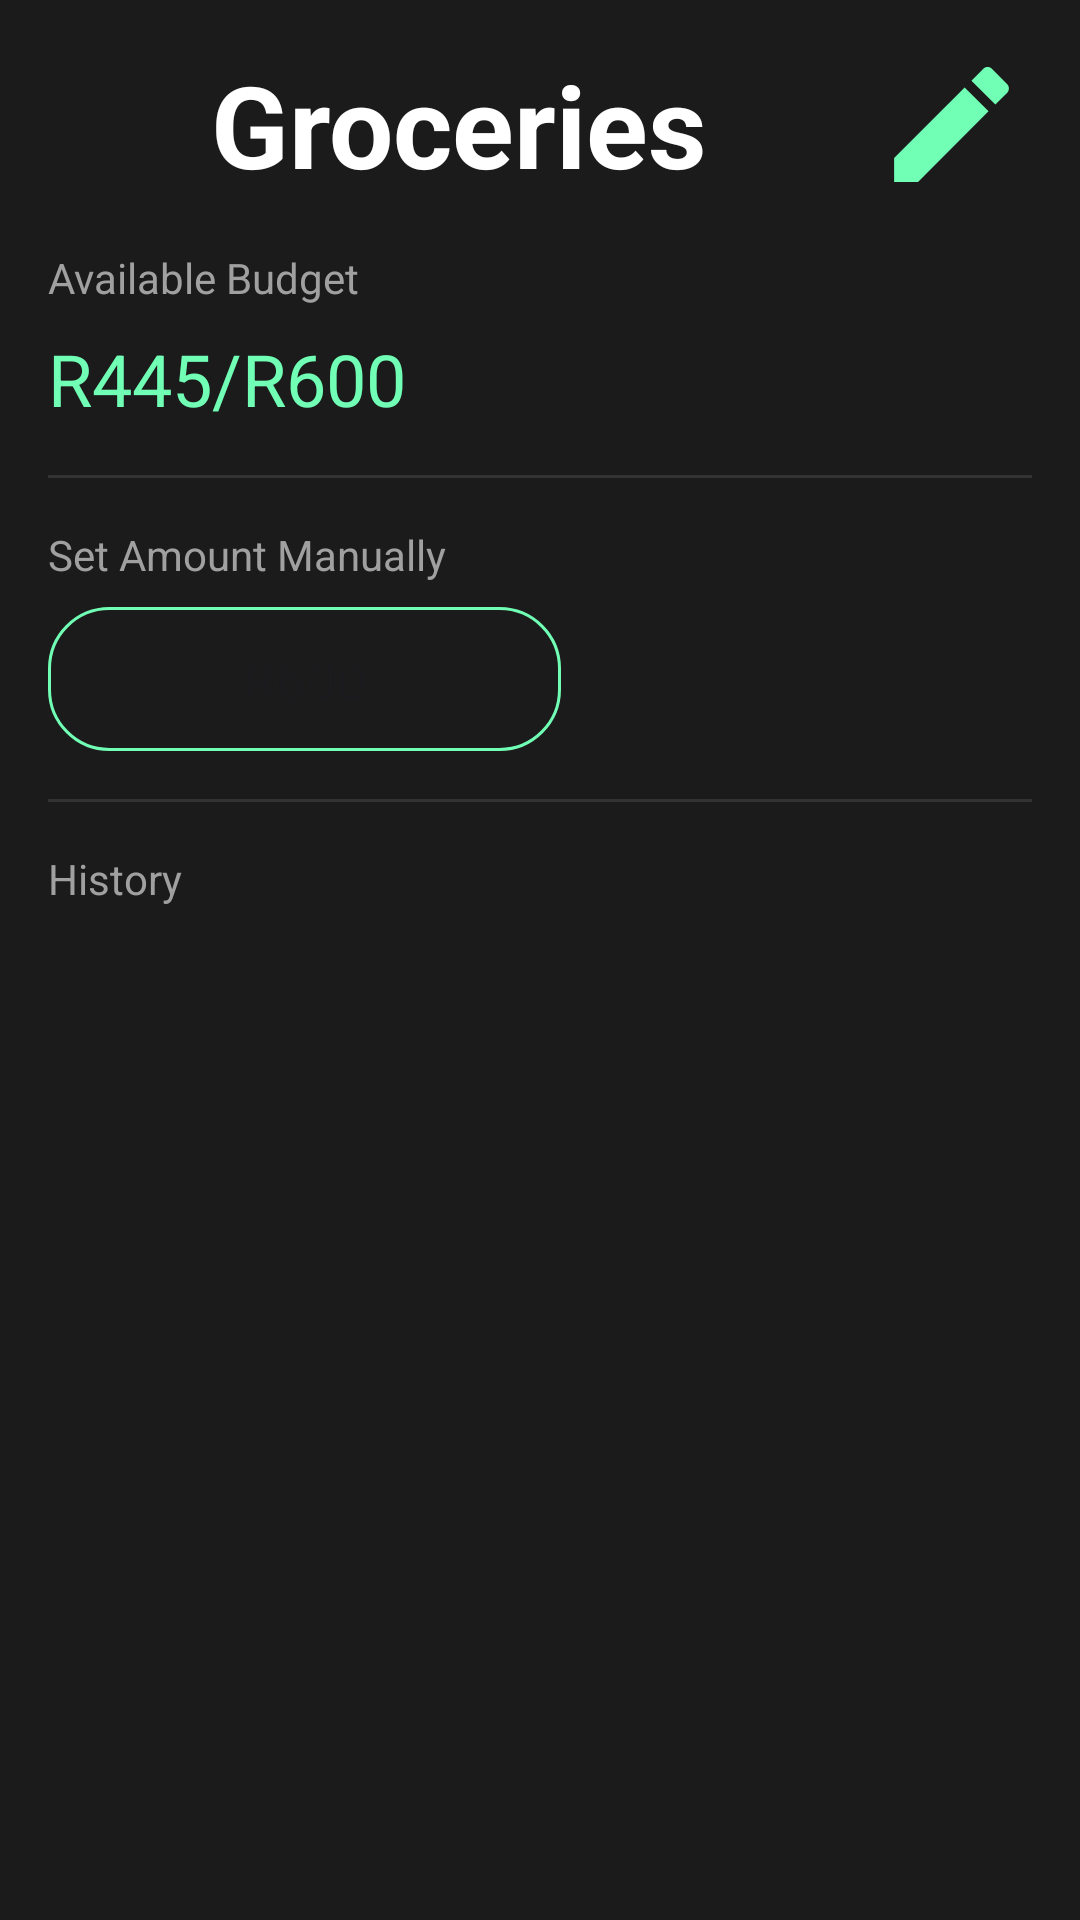

Icon click points for this 1080 × 1920 phone screenshot, format (x,y):
Edit category: (951,124)
